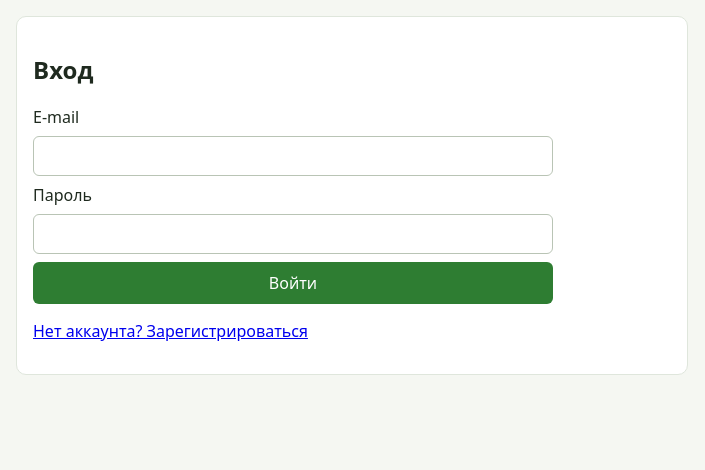
LoginPage › слишком много попыток (429) - сообщение из ответа
Type "farmer@agro.kz" into the field labelled "E-mail". click: [293, 156]
box: [33,136,553,176]
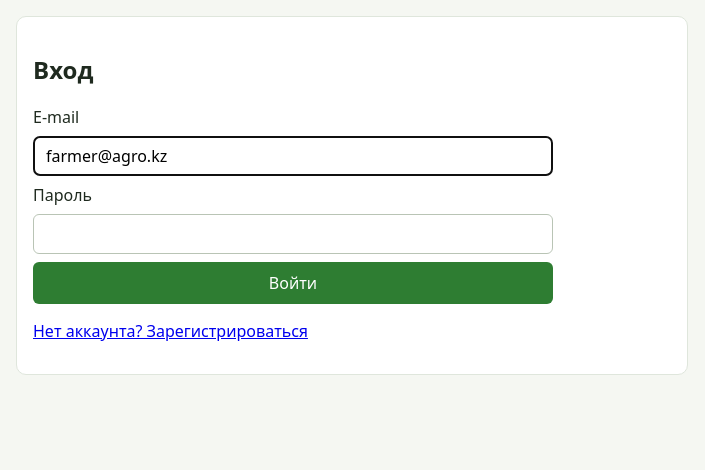
Type "secret123" into the password field labelled "Пароль". click: [293, 234]
box: [33,214,553,254]
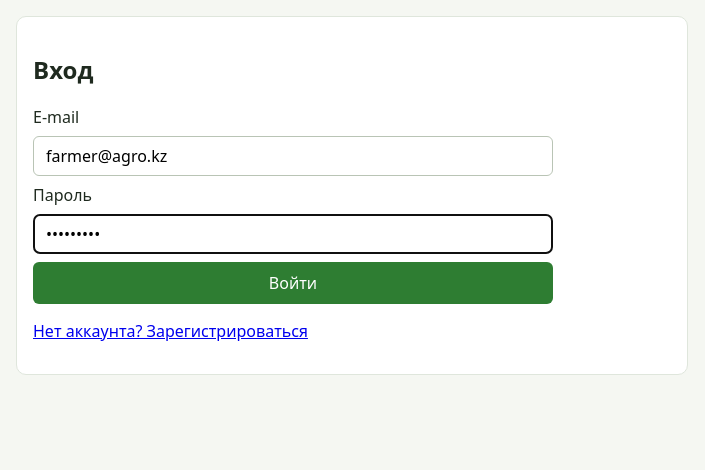
Click the button "Войти". click: [293, 283]
box: [33,262,553,304]
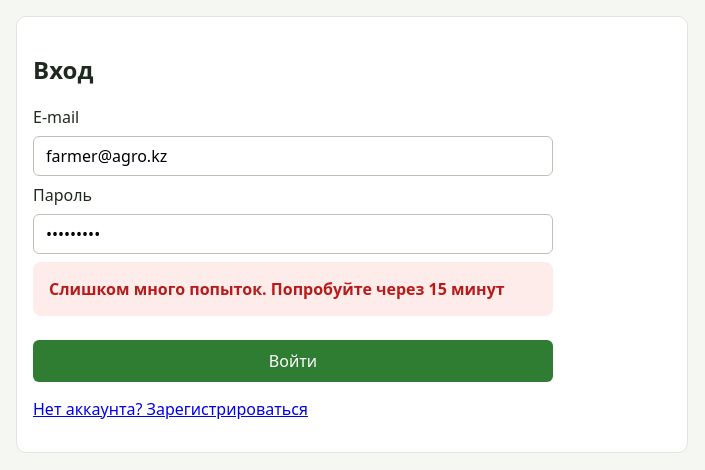
Expected: the text "Слишком много попыток. Попробуйте через 15 минут" is shown, [33,262,553,316]
